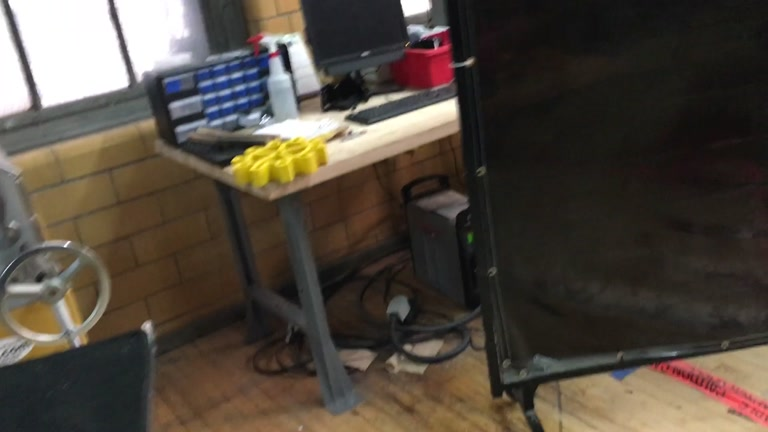gear: (231, 135, 328, 189)
